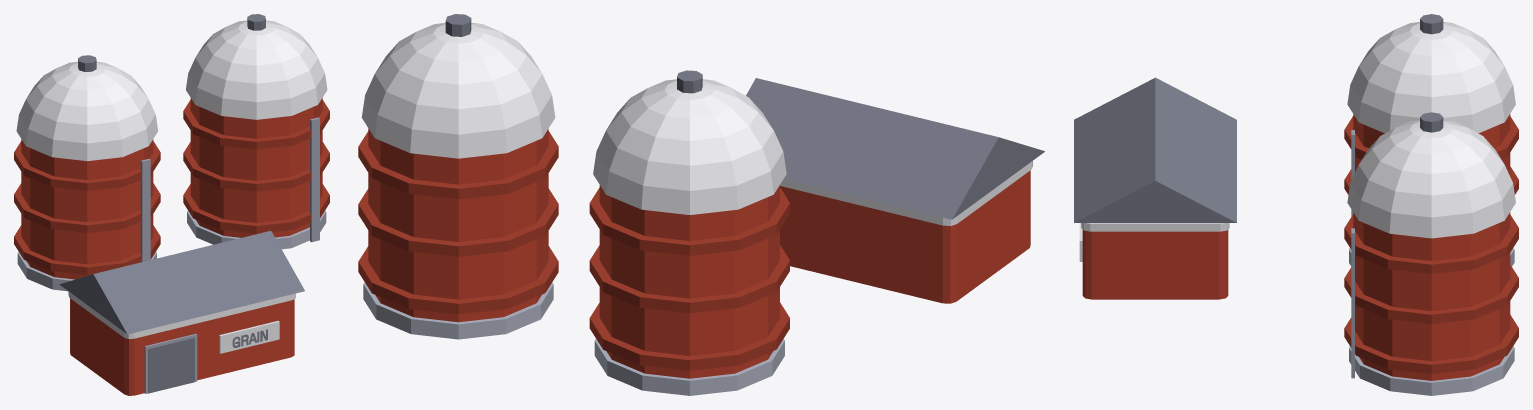
File: silo-2x2-t3-tone-a.glb
3 renders of one model, left to right at view 1: azimuth 30°, elevation 25°; view 2: azimuth 150°, elevation 25°; view 3: azimuth 270°, elevation 25°, orthographic. The views are drawn at different scales.
Parts seen in each view (by area): view 1: silo-2x2-t3-tone-a; view 2: silo-2x2-t3-tone-a; view 3: silo-2x2-t3-tone-a.
Boxes of the visible parts, x1,y1,x2,y2 form: silo-2x2-t3-tone-a: (14,14,329,395); silo-2x2-t3-tone-a: (358,14,1044,395); silo-2x2-t3-tone-a: (1074,14,1518,395).
Size of the model in its own units: 1.62 by 0.925 by 1.53.
1 material, 1 textured.
